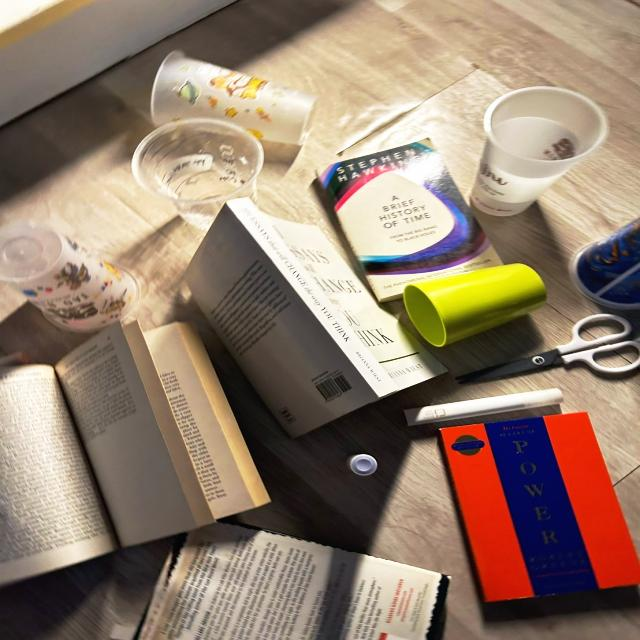Book: (0, 320, 270, 585), (183, 198, 446, 436), (440, 413, 639, 602), (137, 523, 449, 640), (318, 141, 501, 301)
HighLight Pen: (404, 389, 563, 426), (348, 454, 377, 476)
Plastic Cup: (470, 86, 608, 217), (151, 50, 314, 147), (0, 222, 139, 332), (131, 120, 263, 229), (571, 218, 639, 309)
Scissors: (459, 314, 639, 383)
WaterGlass: (403, 263, 546, 347)
